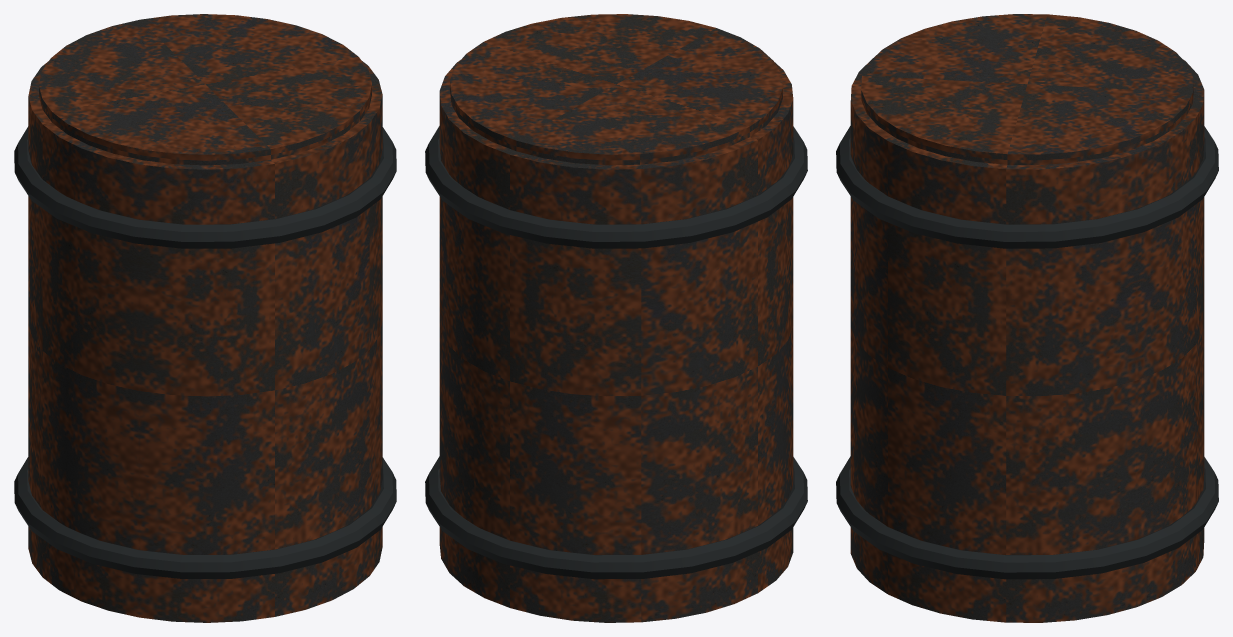
The model's file is SM_Barrel_aad2daf73d.fbx.
3 renders of one model, left to right at view 1: azimuth 30°, elevation 25°; view 2: azimuth 150°, elevation 25°; view 3: azimuth 270°, elevation 25°, orthographic.
Visible parts, largest first — view 1: SM_Barrel_aad2daf73d; view 2: SM_Barrel_aad2daf73d; view 3: SM_Barrel_aad2daf73d.
Part boxes in pixels (x1,y1,x2,y2): SM_Barrel_aad2daf73d: (14,14,396,622); SM_Barrel_aad2daf73d: (425,14,807,622); SM_Barrel_aad2daf73d: (836,14,1218,622).
Size of what is drawn, in the model's own units: 73.46 by 73.46 by 98.25.
Materials: 2 (1 with a texture image).
